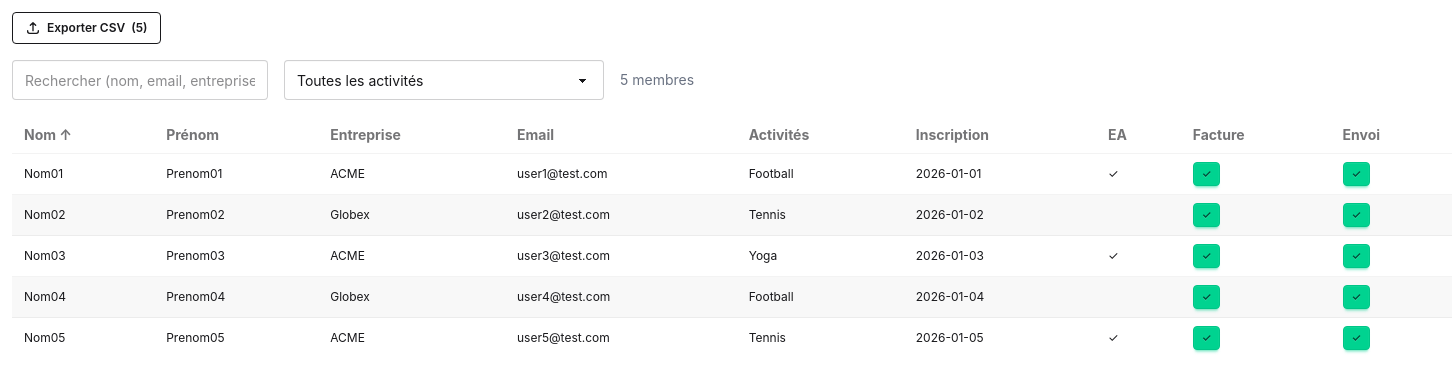
Scenario: MemberTable › filters by search text input
The image size is (1452, 371).
Type "Nom03" into the field with placeholder "Rechercher (nom, email, entreprise)..." at (140, 80), box x1=12 y1=60 x2=268 y2=100
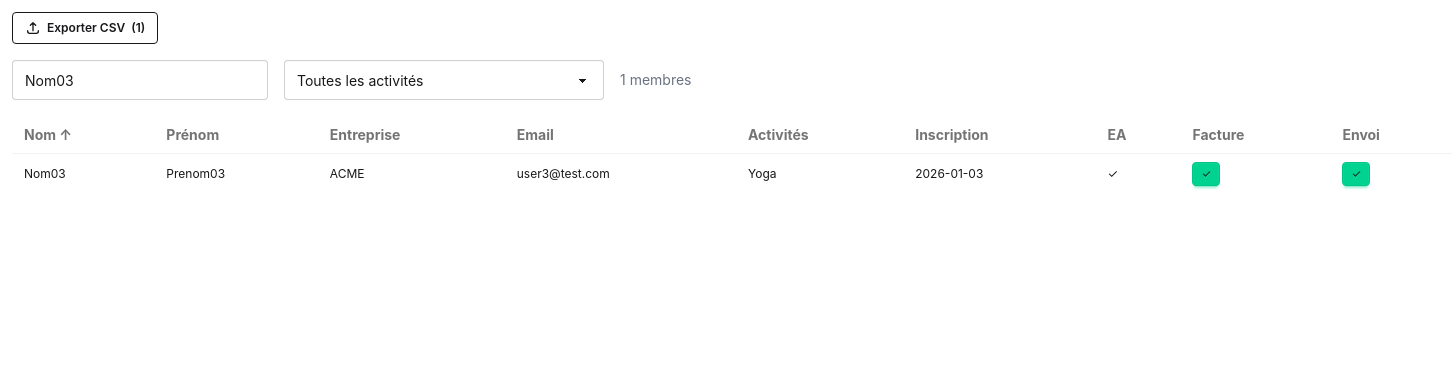
expect the text "Nom03" is shown: met, box x1=12 y1=154 x2=154 y2=194
expect the text "Nom01" is gone: met
